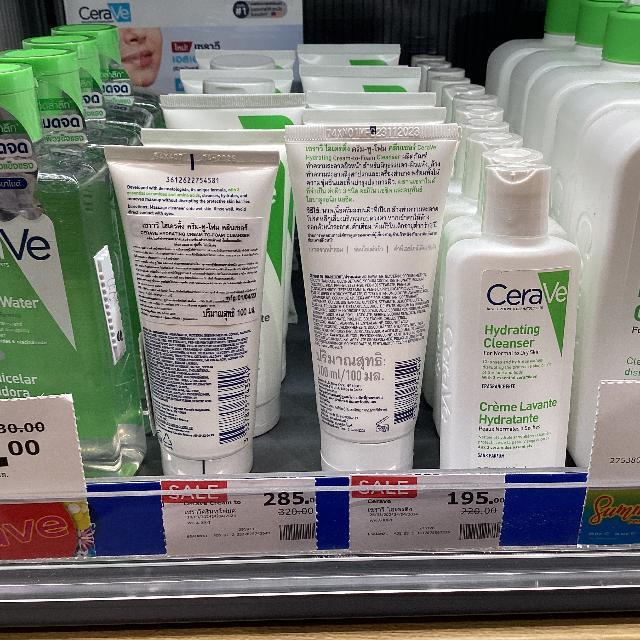Squeeze Tube: (136, 22, 424, 490), (287, 126, 459, 486), (107, 144, 287, 482), (86, 93, 88, 94)
